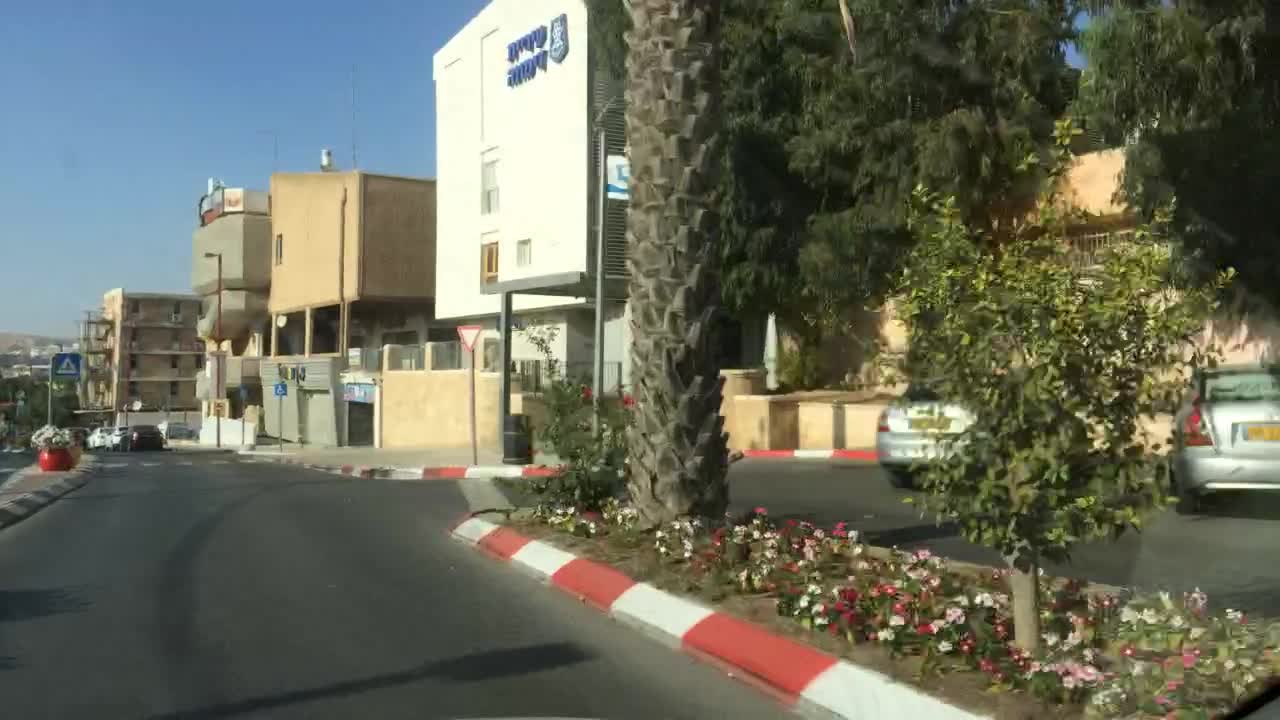car: (872, 371, 1026, 488), (1163, 365, 1278, 510), (116, 422, 164, 450), (85, 425, 112, 452), (159, 419, 195, 439), (62, 425, 86, 446), (109, 423, 128, 449)
traffic sign: (604, 155, 630, 197), (55, 351, 80, 375), (455, 326, 479, 350), (274, 384, 287, 396), (214, 401, 224, 416), (241, 383, 247, 398)
